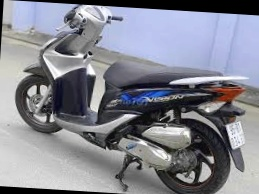Bien-so: (223, 97, 247, 131)
